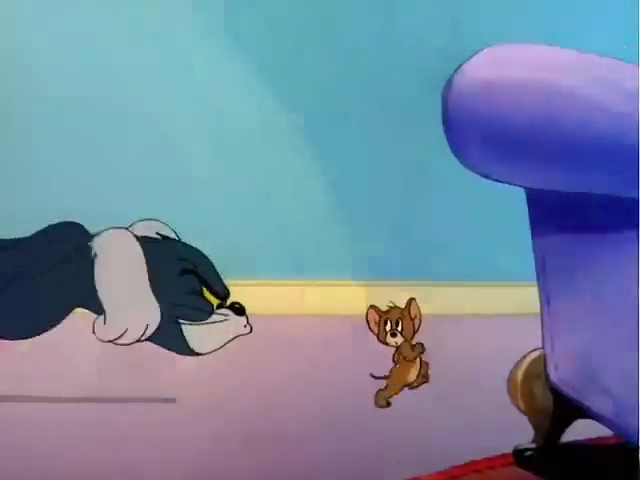jerry: (352, 287, 452, 440), (189, 286, 299, 420)
